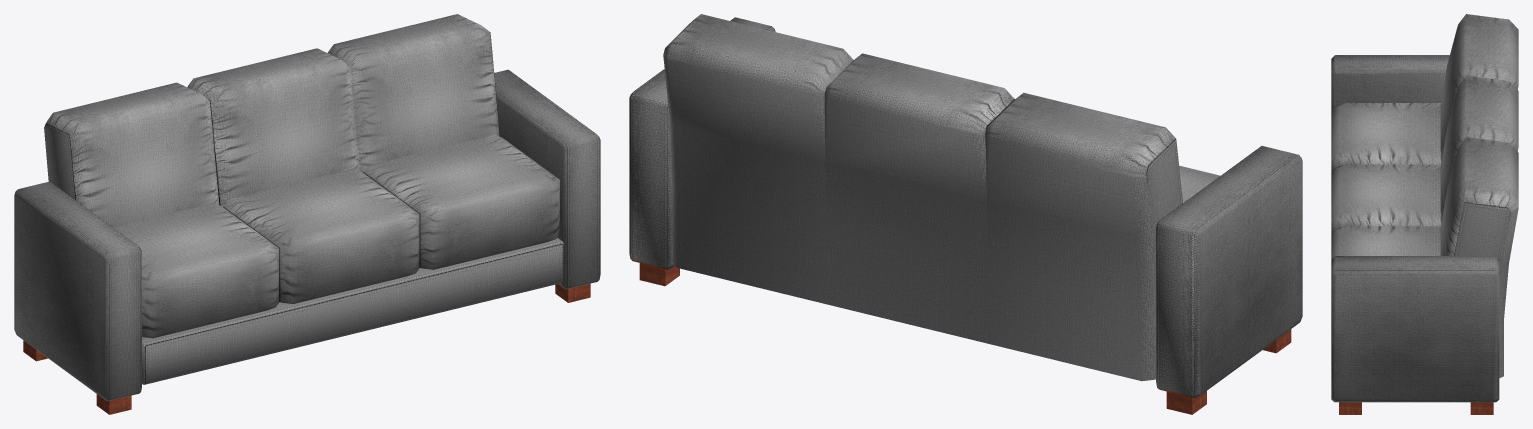
The model's file is office_couch.dae.
3 views of the same model, side by side, from view 1: azimuth 30°, elevation 25°; view 2: azimuth 150°, elevation 25°; view 3: azimuth 270°, elevation 25° (orthographic). The views are drawn at different scales.
Visible parts, largest first — view 1: Couch; view 2: Couch; view 3: Couch.
Part boxes in pixels (bbox=[...]): Couch: bbox=[14, 14, 600, 414]; Couch: bbox=[629, 14, 1302, 414]; Couch: bbox=[1331, 14, 1518, 414].
Size of the model in its own units: 205 by 74.71 by 90.77.
